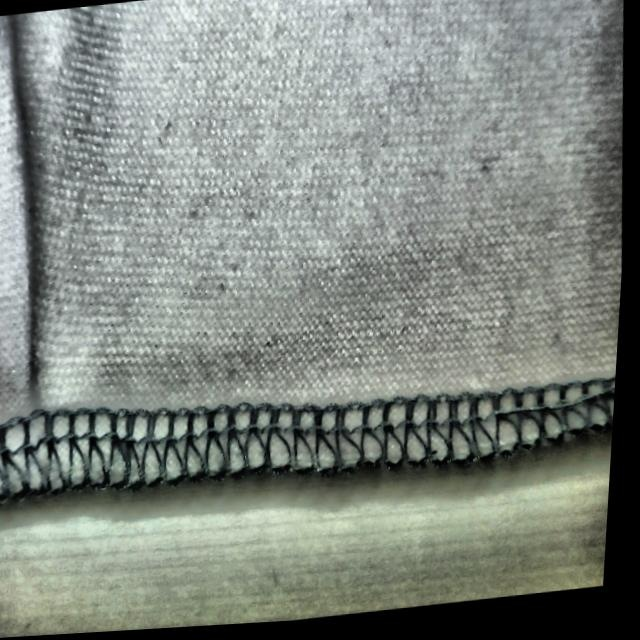seam: (1, 144, 138, 518)
